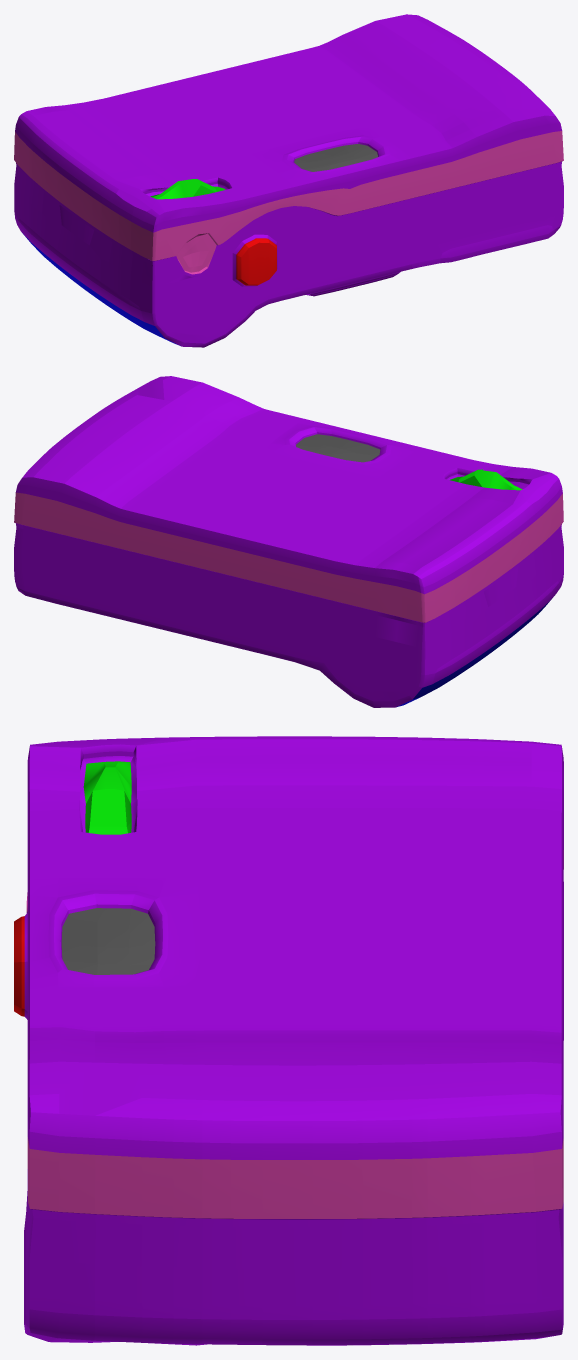
File: camera.fbx
3 views of the same model, one above another, from view 1: azimuth 30°, elevation 25°; view 2: azimuth 150°, elevation 25°; view 3: azimuth 270°, elevation 25° (orthographic). The views are drawn at different scales.
Visible parts, largest first — view 1: DisposableCamera; view 2: DisposableCamera; view 3: DisposableCamera.
Part boxes in pixels (box(x1,y1,x2,y2)): DisposableCamera: box(14, 14, 563, 347); DisposableCamera: box(14, 376, 563, 707); DisposableCamera: box(14, 736, 563, 1345).
Bounding box in the file's own units: 22.74 × 7.75 × 13.03.
